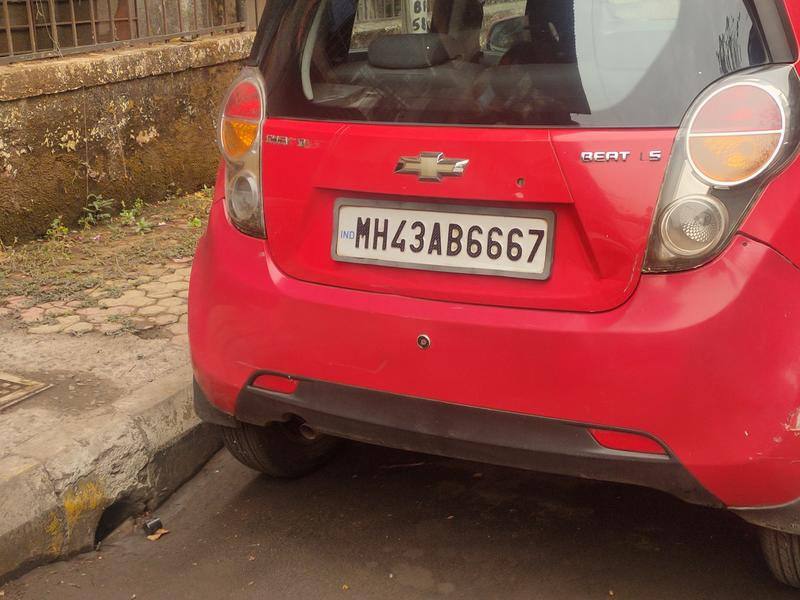license_plate: (323, 183, 568, 313)
